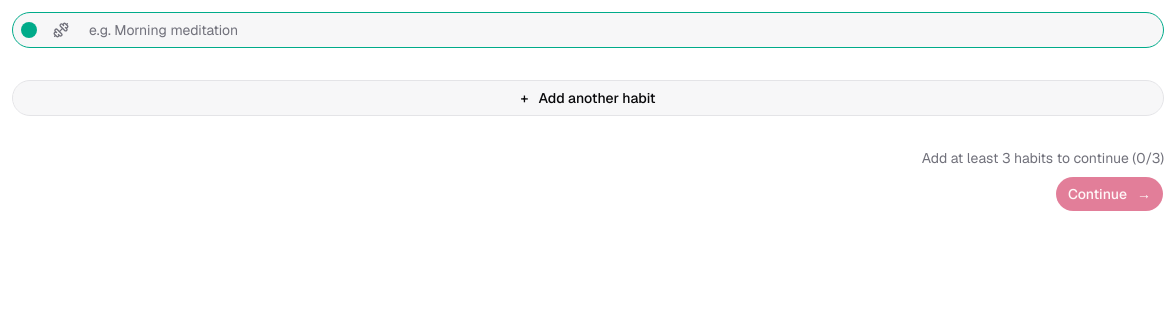
Test case: StepHabits › enables continue button when 3 habits are filled
Click the button "+ Add another habit": (588, 98) [12,80,1164,116]
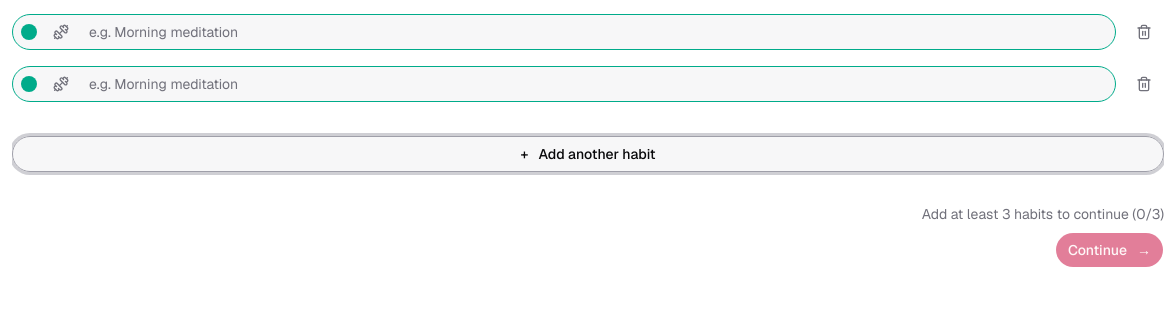
Click the button "+ Add another habit": (588, 154) [12,136,1164,172]
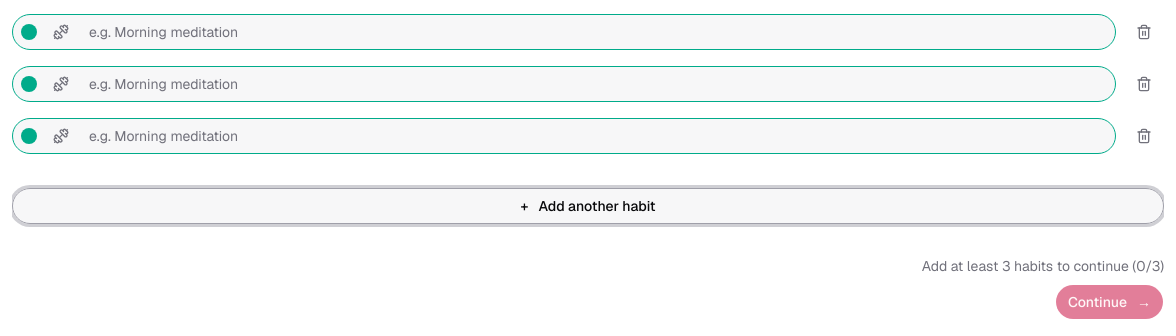
In the 1st field with placeholder "e.g. Morning meditation": (596, 32) [77,14,1115,50], type "Exercise"
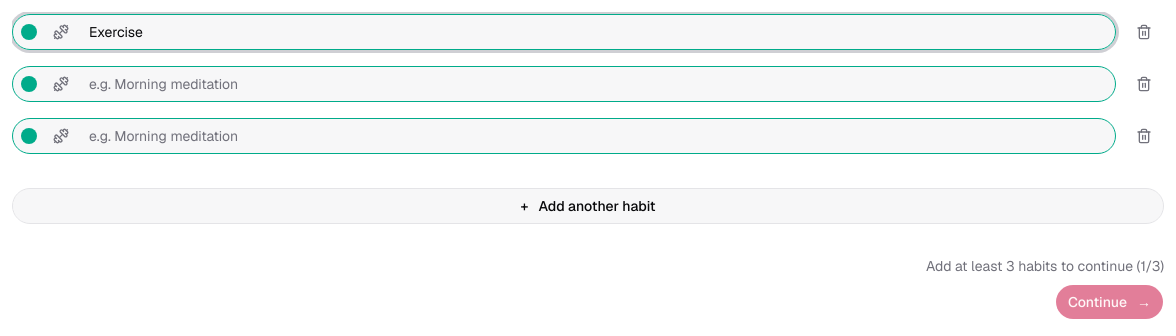
In the 1st field with placeholder "e.g. Morning meditation": (596, 84) [77,66,1115,102], type "Reading"
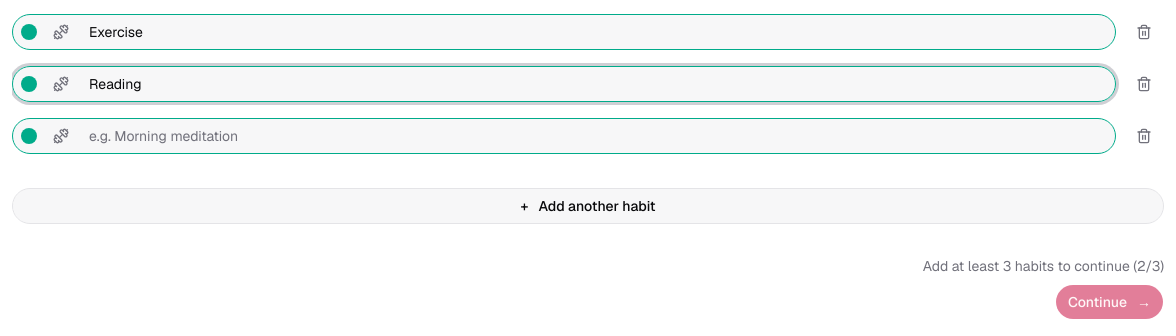
In the field with placeholder "e.g. Morning meditation": (596, 136) [77,118,1115,154], type "Meditation"
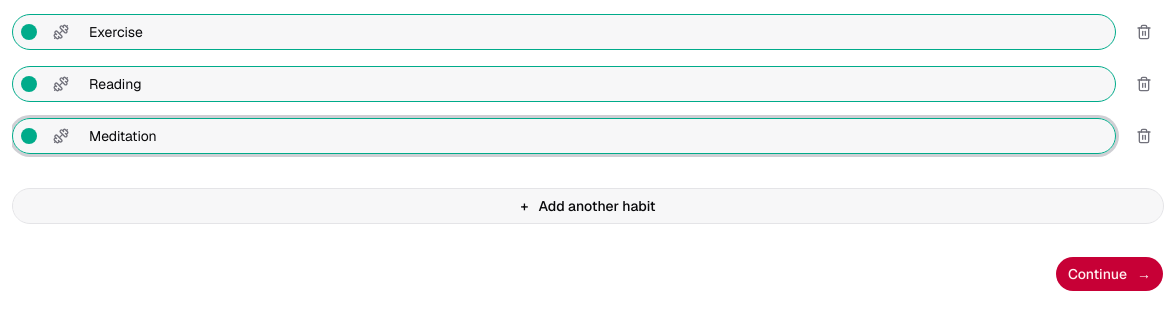
Now the button "Continue →" is enabled, box [1055,256,1164,292]
Now the text "Add at least 3 habits" is gone
